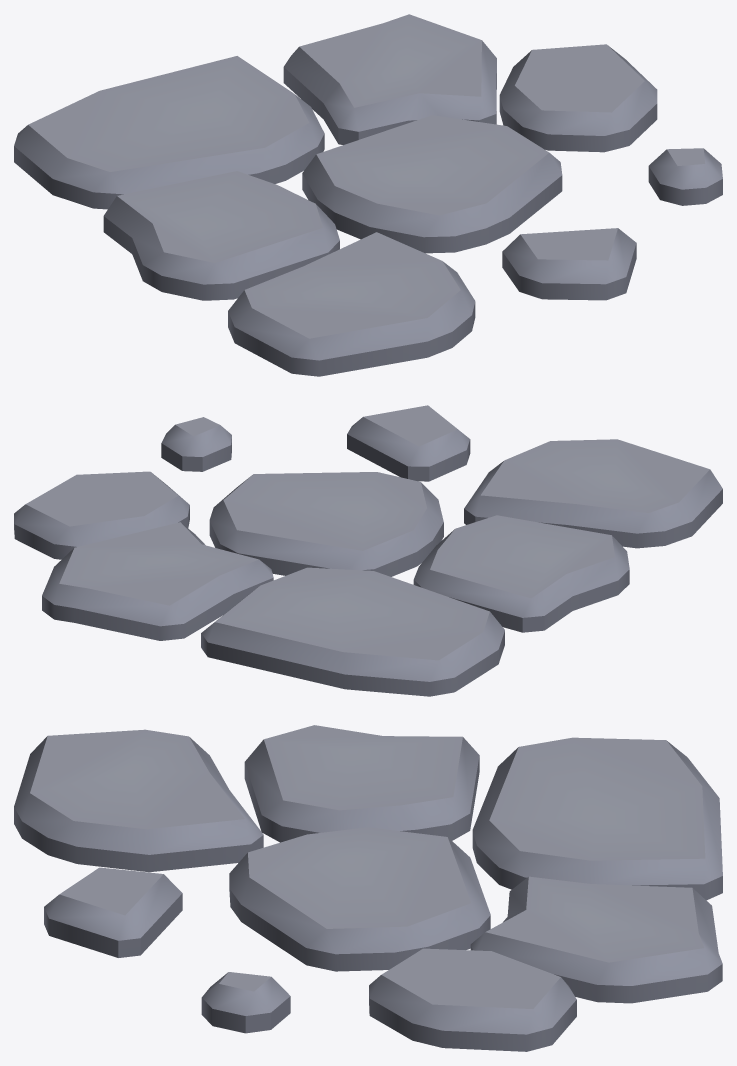
Rendered from CAMINO DE PIEDRAS.fbx.
3 views of the same model, one above another, from view 1: azimuth 30°, elevation 25°; view 2: azimuth 150°, elevation 25°; view 3: azimuth 270°, elevation 25° (orthographic). The views are drawn at different scales.
Parts seen in each view (by area): view 1: camino piedras; view 2: camino piedras; view 3: camino piedras.
Boxes of the visible parts, <box> form: camino piedras: <box>14,14,722,376</box>; camino piedras: <box>14,405,722,696</box>; camino piedras: <box>14,725,722,1051</box>.
Size of the model in its own units: 185 by 186 by 10.
Materials: 1 (1 with a texture image).
